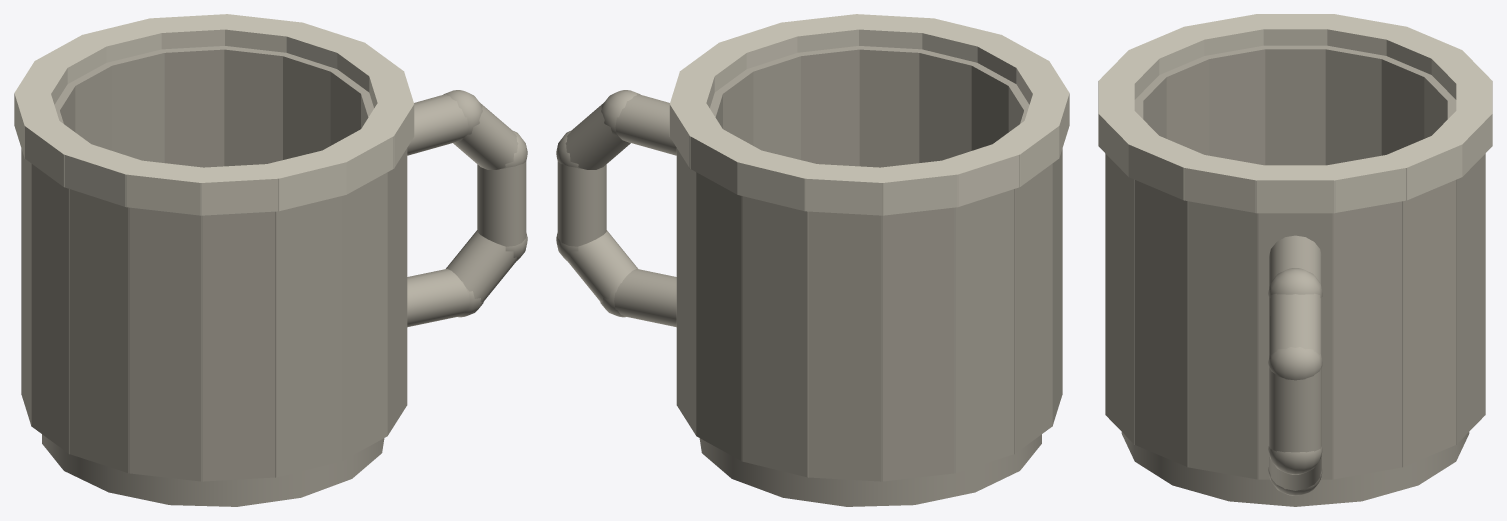
The model's file is CMU3DRMCCoffeeCupDrinksExtraCloud.glb.
3 views of the same model, side by side, from view 1: azimuth 30°, elevation 25°; view 2: azimuth 150°, elevation 25°; view 3: azimuth 270°, elevation 25° (orthographic).
Visible parts, largest first — view 1: ceramic cup wall 11, ceramic cup wall 10, ceramic cup wall 12, ceramic cup wall 09, ceramic cup wall 13, ceramic cup wall 08, thick ceramic base, ceramic cup wall 03, ceramic cup wall 02, ceramic cup wall 04, ceramic cup wall 14, ceramic cup wall 01 (+27 smaller); view 2: ceramic cup wall 05, ceramic cup wall 06, ceramic cup wall 04, ceramic cup wall 07, ceramic cup wall 03, ceramic cup wall 08, thick ceramic base, ceramic cup wall 13, ceramic cup wall 14, ceramic cup wall 12, ceramic cup wall 02, ceramic cup wall 15 (+27 smaller); view 3: ceramic cup wall 01, ceramic cup wall 15, ceramic cup wall 02, ceramic cup wall 14, ceramic cup wall 00, ceramic cup wall 03, ceramic cup wall 13, thick ceramic base, ceramic cup wall 08, ceramic cup wall 09, ceramic cup wall 07, ceramic handle segment 2 (+26 smaller).
Boxes of the visible parts, <box> form: ceramic cup wall 11: <box>201,211,276,481</box>; ceramic cup wall 10: <box>128,207,202,481</box>; ceramic cup wall 12: <box>275,196,342,477</box>; ceramic cup wall 09: <box>68,189,129,472</box>; ceramic cup wall 13: <box>341,172,387,461</box>; ceramic cup wall 08: <box>31,163,69,453</box>; thick ceramic base: <box>42,434,384,506</box>; ceramic cup wall 03: <box>156,46,231,167</box>; ceramic cup wall 02: <box>224,46,282,166</box>; ceramic cup wall 04: <box>102,49,170,162</box>; ceramic cup wall 14: <box>387,149,406,435</box>; ceramic cup wall 01: <box>277,52,340,159</box>; ceramic cup wall 05: <box>807,211,882,481</box>; ceramic cup wall 06: <box>881,207,955,481</box>; ceramic cup wall 04: <box>741,196,808,477</box>; ceramic cup wall 07: <box>954,189,1015,472</box>; ceramic cup wall 03: <box>696,172,742,461</box>; ceramic cup wall 08: <box>1014,163,1052,453</box>; thick ceramic base: <box>699,434,1041,506</box>; ceramic cup wall 13: <box>851,46,927,167</box>; ceramic cup wall 14: <box>801,46,859,166</box>; ceramic cup wall 12: <box>913,49,981,162</box>; ceramic cup wall 02: <box>677,149,696,435</box>; ceramic cup wall 15: <box>743,52,806,159</box>; ceramic cup wall 01: <box>1332,201,1403,479</box>; ceramic cup wall 15: <box>1187,201,1258,479</box>; ceramic cup wall 02: <box>1402,180,1456,467</box>; ceramic cup wall 14: <box>1134,180,1188,467</box>; ceramic cup wall 00: <box>1257,213,1333,479</box>; ceramic cup wall 03: <box>1456,154,1485,444</box>; ceramic cup wall 13: <box>1105,154,1134,444</box>; thick ceramic base: <box>1121,432,1469,506</box>; ceramic cup wall 08: <box>1257,45,1325,165</box>; ceramic cup wall 09: <box>1200,45,1271,165</box>; ceramic cup wall 07: <box>1319,45,1390,165</box>; ceramic handle segment 2: <box>1269,367,1321,452</box>.
Bounding box in the file's own units: 0.3541 × 0.2365 × 0.2513.
